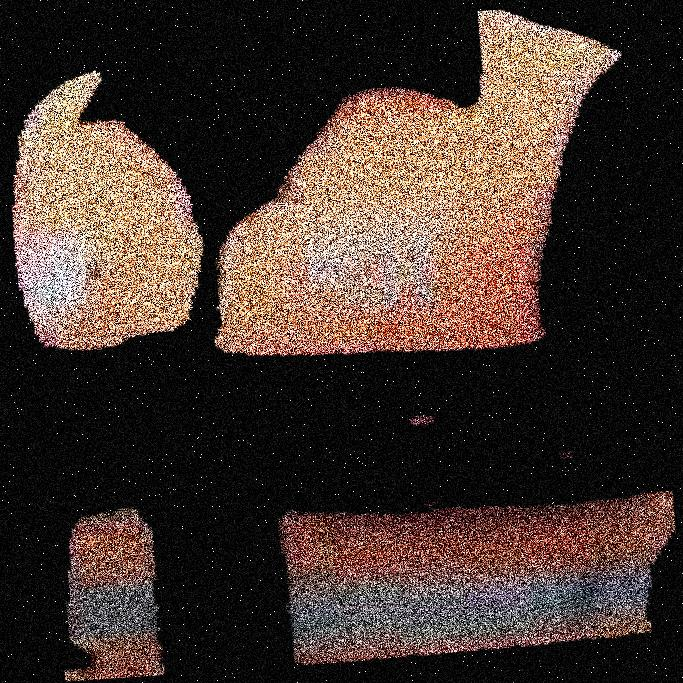Colete: (445, 0, 526, 682)
